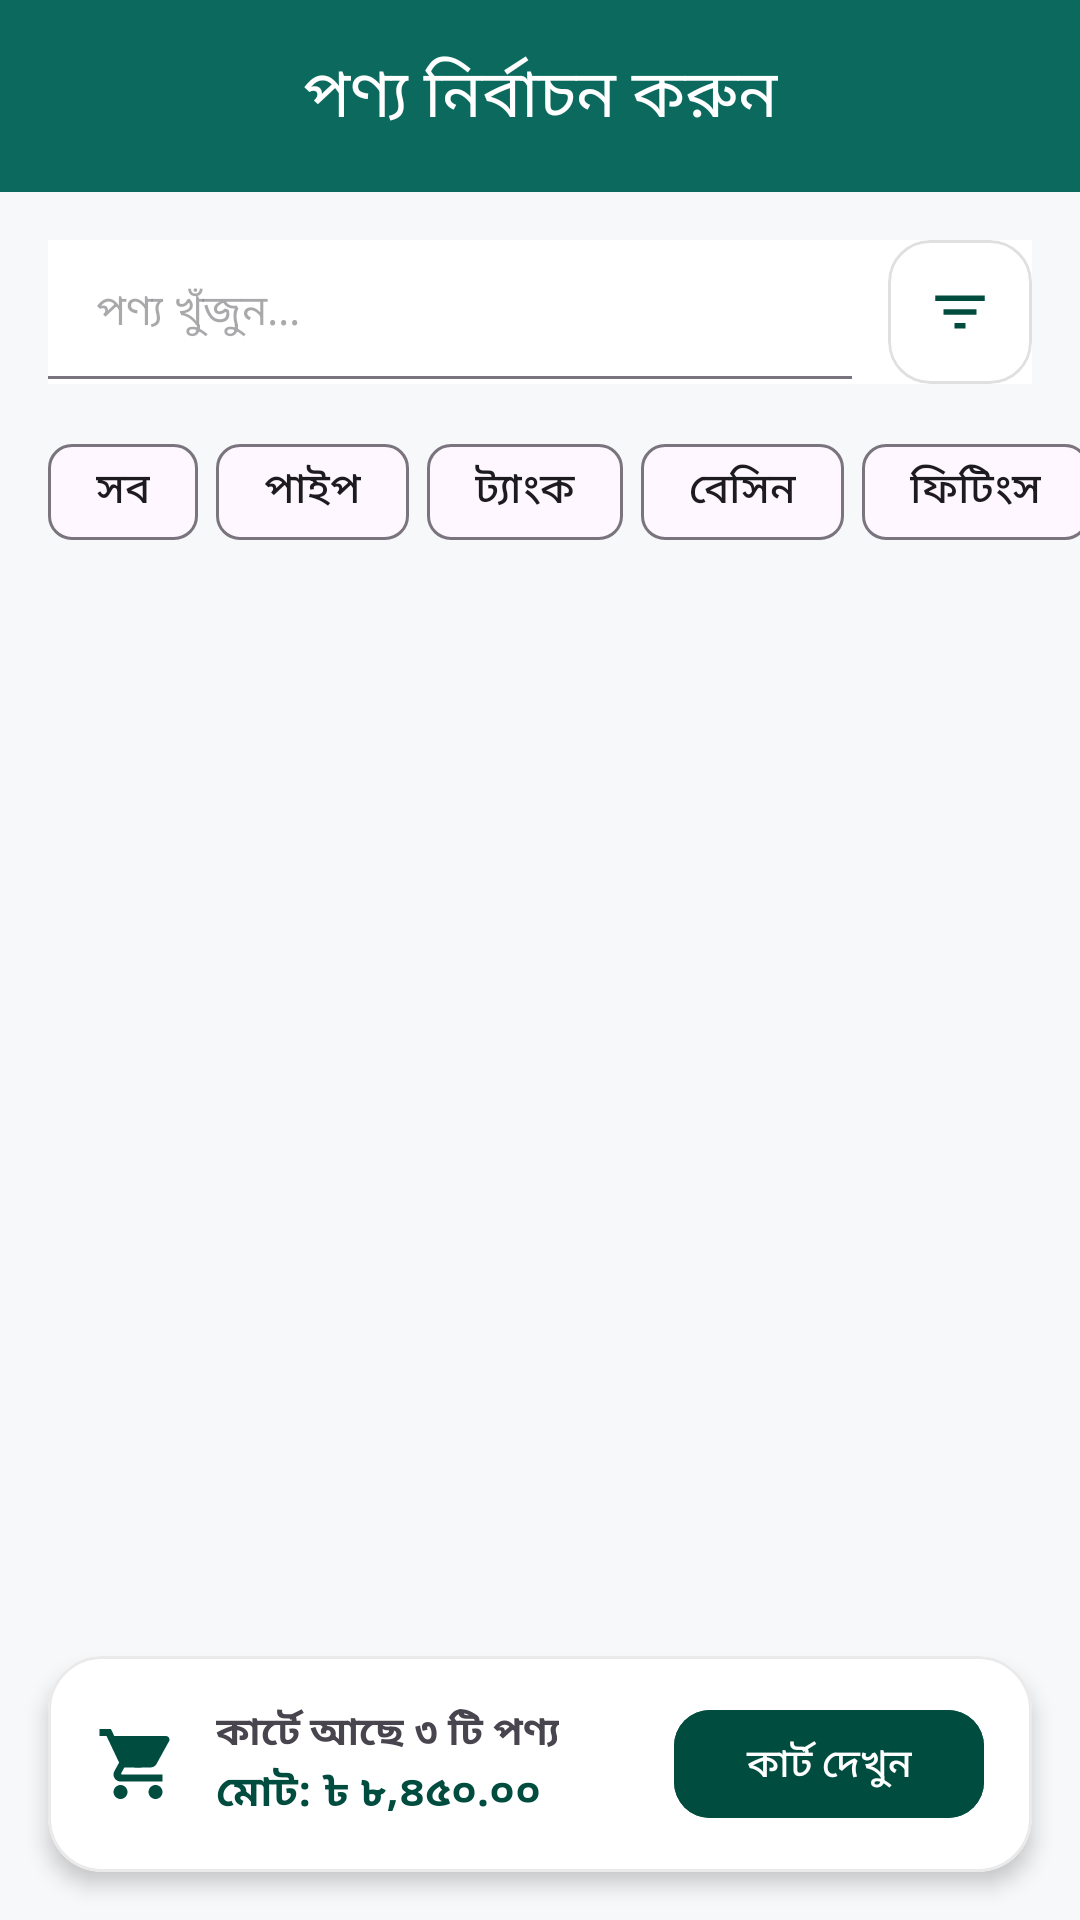

Locate icon controls on the screen. Image size 1080 x 1920, boxes as [x1,y1,x2,y2].
filter: [935,295,985,329]
